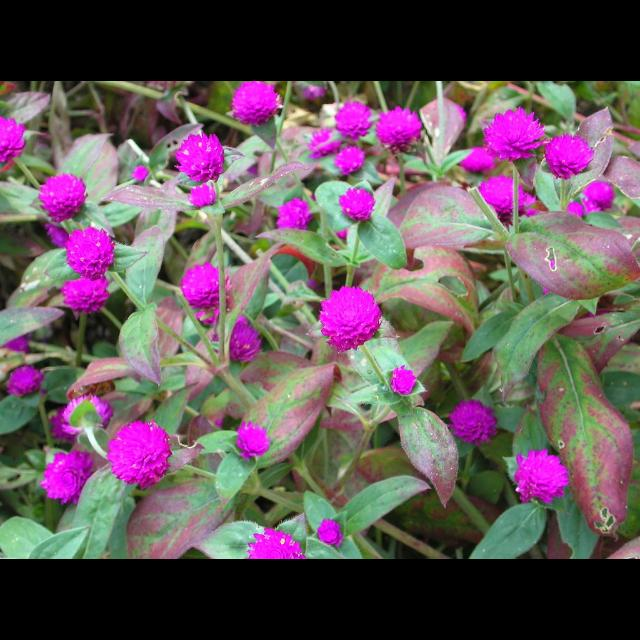Flower: (318, 280, 380, 352), (107, 421, 171, 484), (484, 107, 546, 161), (514, 449, 570, 505), (442, 402, 500, 446), (38, 176, 88, 226), (66, 228, 114, 280), (481, 173, 534, 220), (210, 317, 262, 363), (46, 454, 90, 508), (540, 132, 596, 174), (228, 82, 276, 128), (60, 395, 114, 435), (244, 526, 306, 560), (376, 105, 424, 148), (186, 259, 224, 313), (174, 134, 222, 176), (62, 274, 108, 314), (0, 114, 28, 166), (236, 426, 272, 462), (338, 104, 377, 136), (2, 366, 38, 396), (339, 188, 373, 218), (580, 180, 614, 210), (310, 128, 342, 158), (458, 146, 498, 170), (275, 198, 305, 228), (333, 147, 361, 173), (314, 518, 342, 540), (391, 367, 414, 391), (188, 190, 212, 202)
